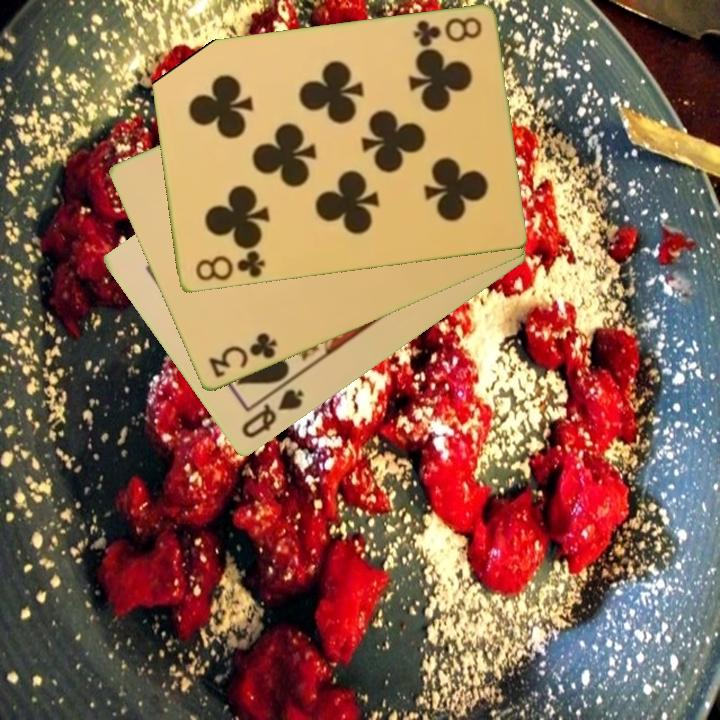3c: (204, 329, 280, 381)
8c: (191, 247, 268, 285), (409, 14, 484, 51)
Qs: (238, 385, 307, 442)
